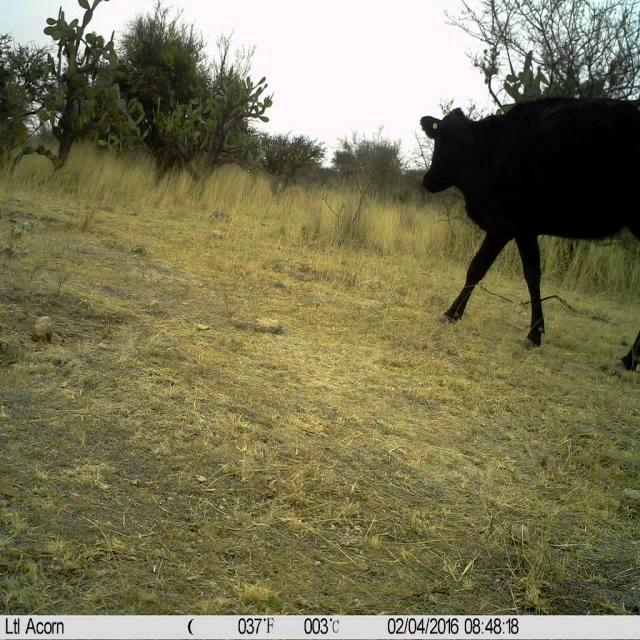COW: (421, 98, 640, 345)
